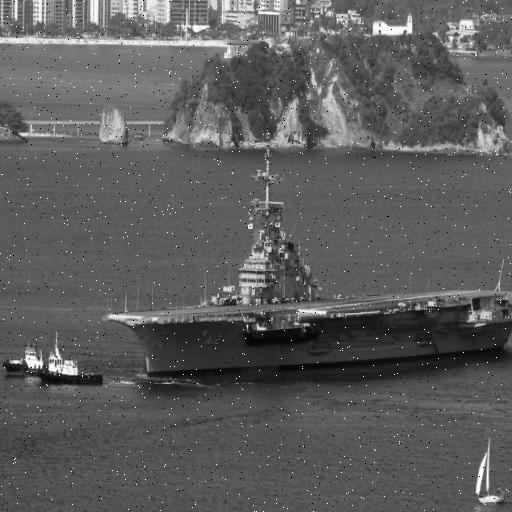Portanaves: (104, 145, 512, 392)
